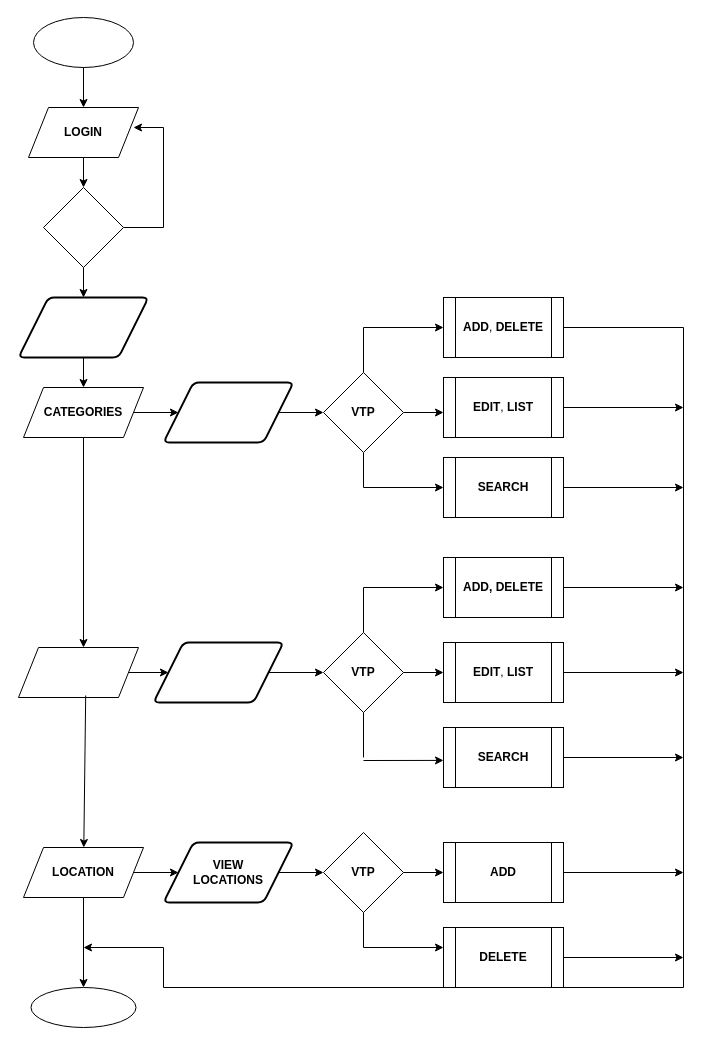
This 709x1045 diagram has some shape labels left out. The shapes that lost their labels are listed below. From the top down, each one's box as (x1, y1, x2, y2) in pixels, then its label:
(32, 16, 134, 68): START
(42, 186, 124, 268): AUTH
(17, 296, 149, 358): DASHBOARD
(162, 381, 294, 443): VIEW CATEGORIES
(18, 646, 138, 698): INVENTORIES
(152, 641, 284, 703): VIEW INVENTORIES
(30, 986, 136, 1028): END
